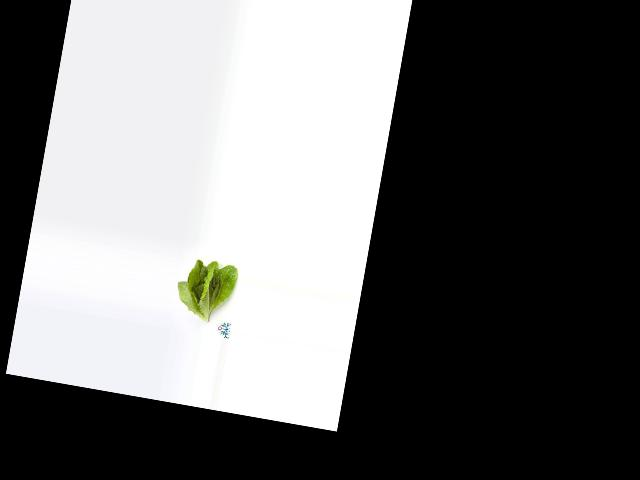lettuce: (171, 253, 238, 325)
